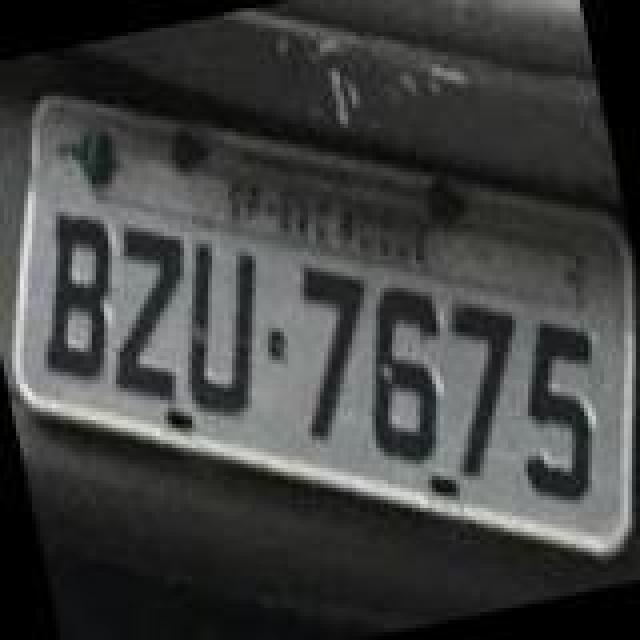5: (494, 314, 626, 518)
6: (344, 274, 472, 470)
7: (274, 250, 398, 446), (426, 290, 550, 478)
B: (14, 200, 138, 392)
U: (160, 230, 288, 426)
Z: (86, 214, 218, 410)
